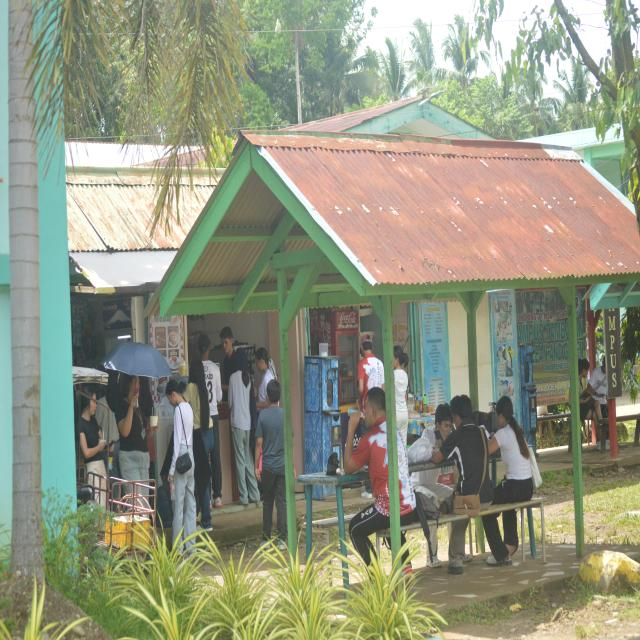person: (344, 387, 389, 565), (433, 395, 493, 508), (255, 380, 287, 550), (108, 373, 156, 482), (166, 379, 196, 551), (183, 359, 212, 532), (489, 396, 533, 504), (228, 370, 259, 505), (198, 334, 222, 508), (80, 388, 107, 507), (357, 334, 384, 414), (394, 346, 408, 443), (256, 348, 274, 410)
